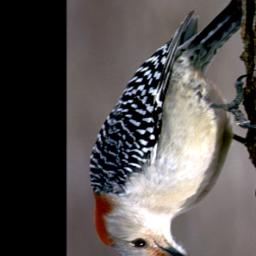Woodpecker: (89, 8, 256, 256)
